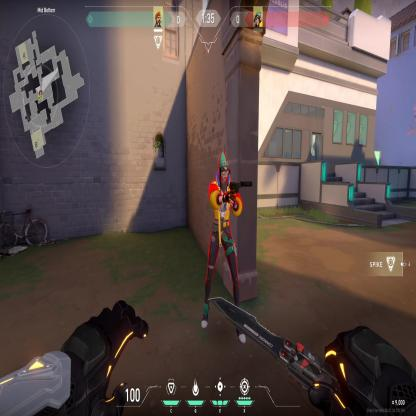enemy: (204, 146, 243, 297)
